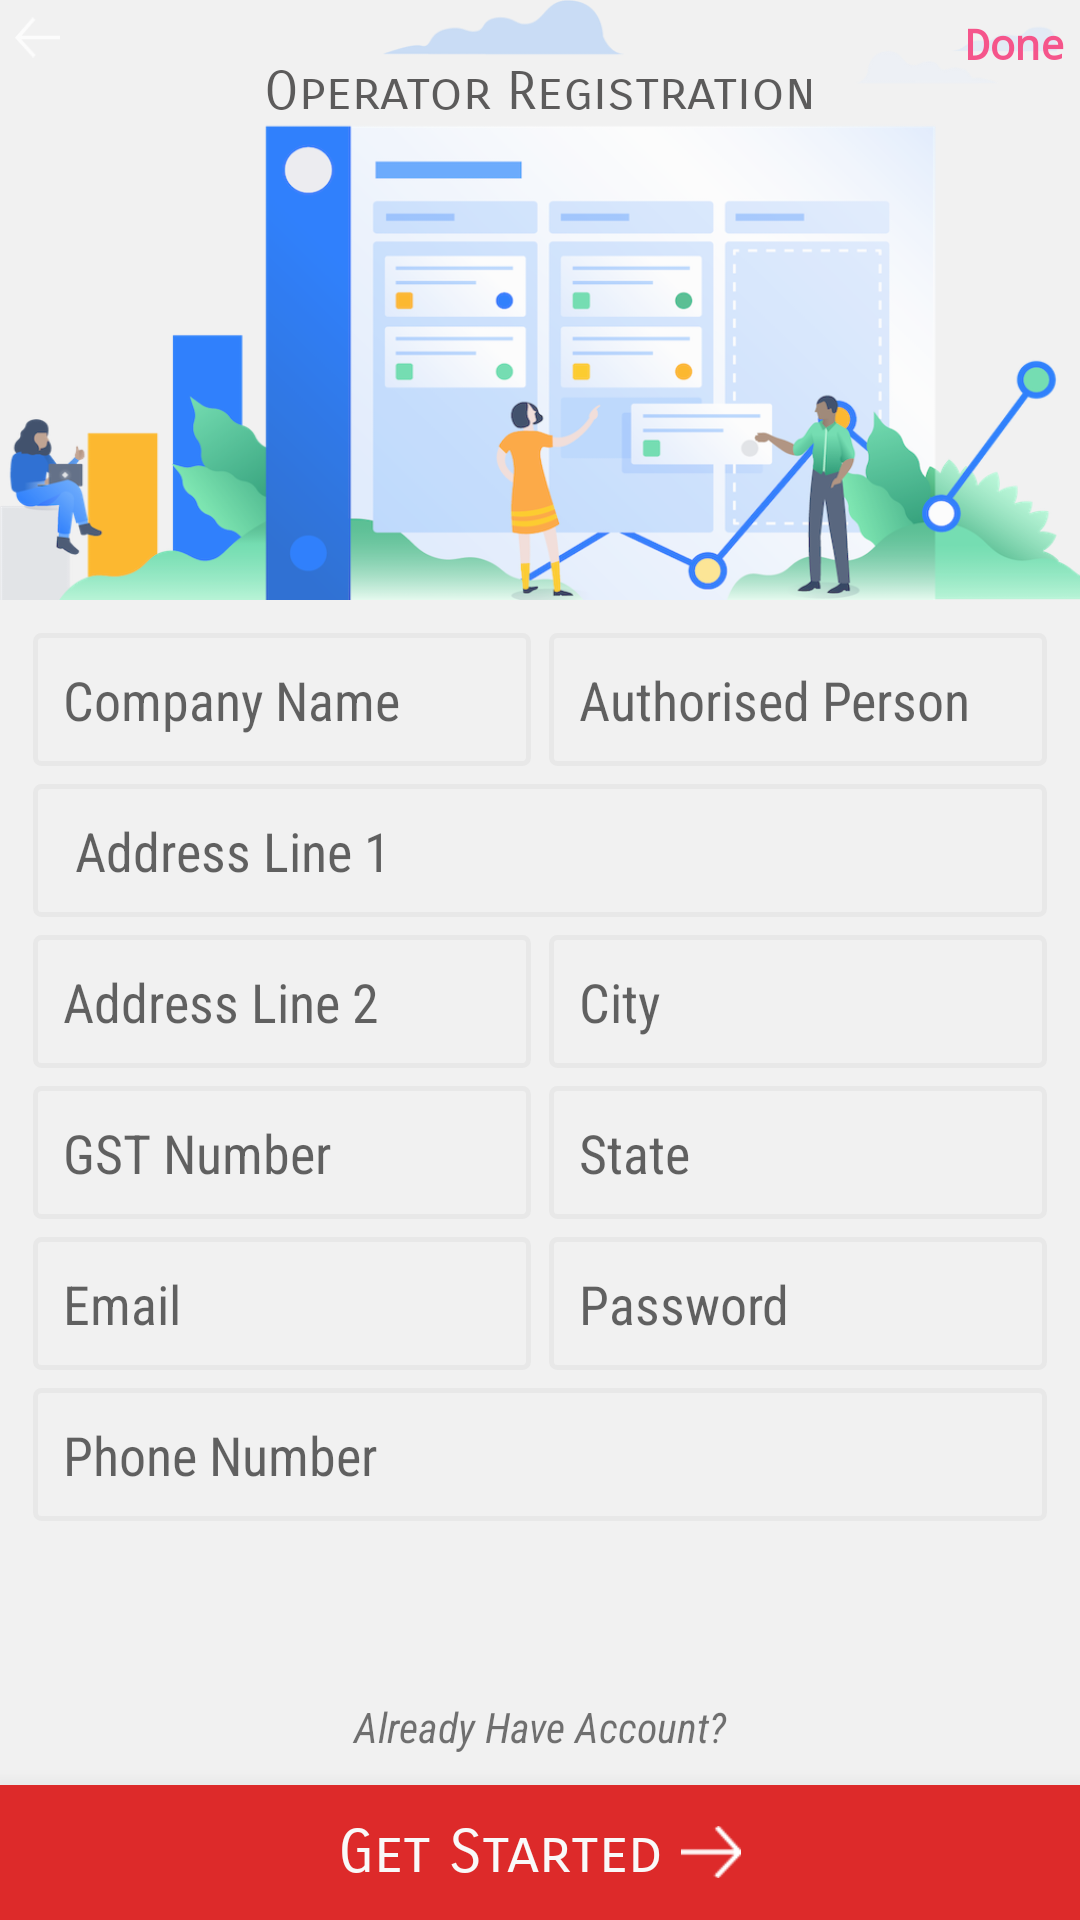

Locate icon controls on the screen. Image size 1080*1920, boxes as rect(x1, y1, x2, y2).
arrow forward: rect(681, 1826, 741, 1878)
